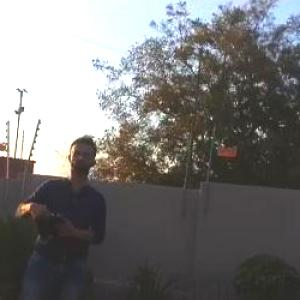follow: (1, 130, 112, 299)
